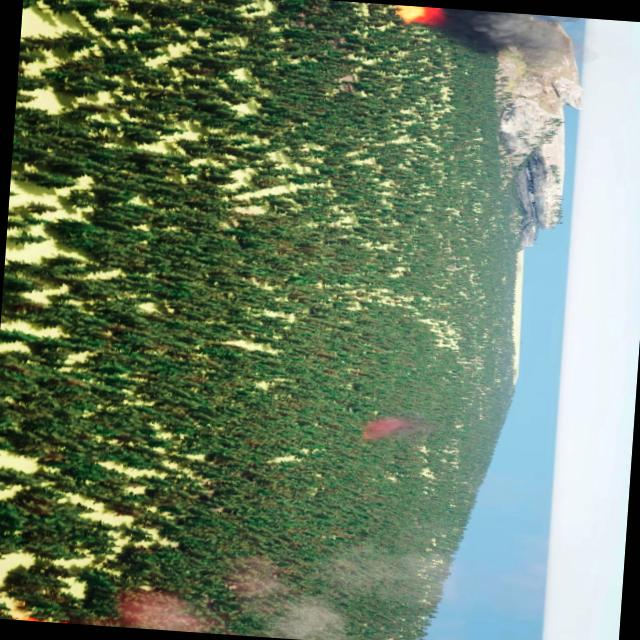fire: (392, 4, 443, 23)
smoke: (105, 523, 535, 640), (436, 8, 588, 60), (358, 415, 408, 442)
